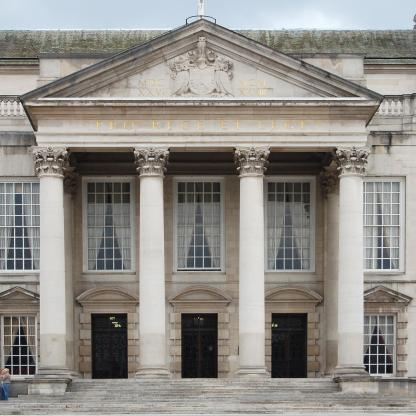Balcony: (370, 93, 416, 119), (0, 95, 36, 119)
Building Outline: (0, 0, 416, 415)
Cornice: (17, 17, 386, 101), (257, 285, 324, 307), (76, 285, 142, 307), (167, 285, 233, 307), (0, 285, 50, 307), (363, 285, 414, 306)
Deco: (169, 36, 234, 97), (83, 120, 321, 130), (238, 79, 266, 96), (138, 79, 165, 96)
Door: (181, 313, 218, 378), (91, 314, 128, 378), (272, 313, 308, 378)
Floor: (1, 145, 416, 284)
Floor Slab: (1, 283, 416, 289), (1, 140, 416, 145)
Ground Floor: (1, 289, 416, 379)
Molding: (28, 105, 376, 120)
Pillar: (32, 145, 70, 378), (233, 145, 271, 378), (333, 145, 370, 378), (133, 145, 170, 378)
Roof: (229, 28, 416, 64), (0, 28, 174, 65)
Top Floor: (1, 65, 416, 139)
Window: (173, 176, 225, 272), (354, 176, 406, 272), (264, 176, 316, 272), (82, 177, 134, 272), (0, 178, 50, 272), (361, 313, 397, 378), (0, 313, 36, 377)
